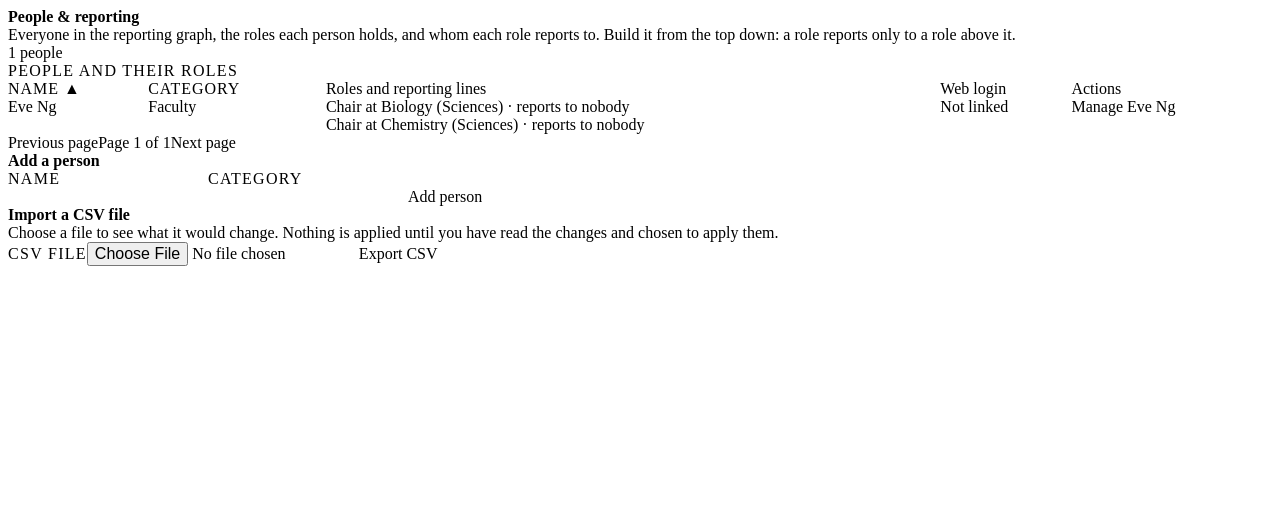
keyboard and screen-reader behaviour › names where each assignment is held, in the row, the revoke button and the reports-to controls
Expected: the list items read "Chair at Biology (Sciences) · reports to nobody", "Chair at Chemistry (Sciences) · reports to nobody", in this order, x1=326 y1=98 x2=629 y2=115; x1=326 y1=116 x2=644 y2=133
Click the button "Manage Eve Ng": (1124, 107) x1=1072 y1=98 x2=1176 y2=116
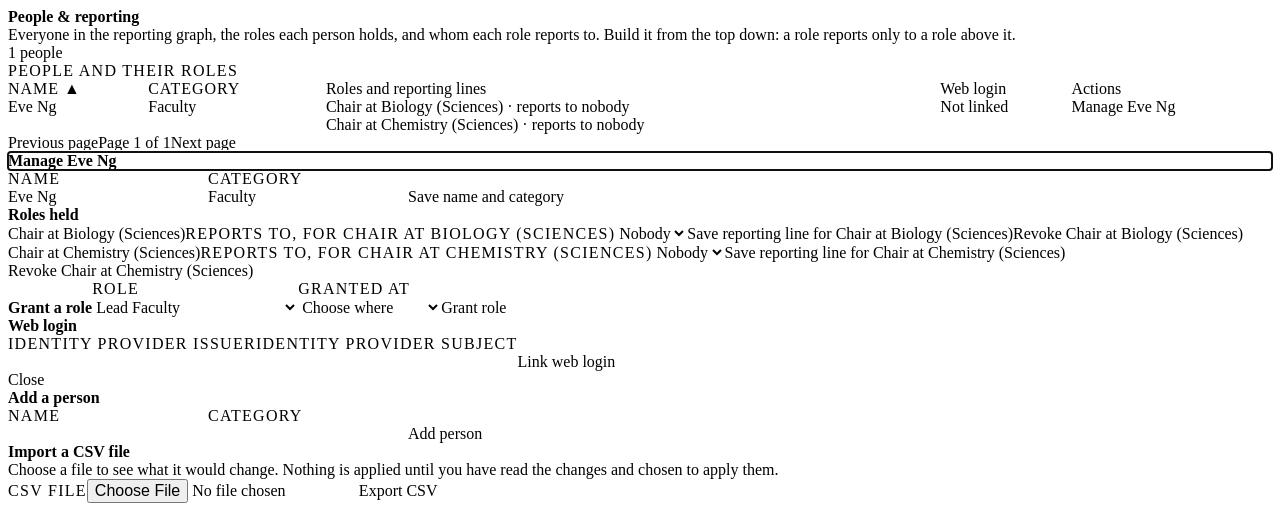
Expected: the button "Revoke Chair at Biology (Sciences)" is shown, x1=1013 y1=224 x2=1243 y2=242
Expected: the button "Revoke Chair at Chemistry (Sciences)" is shown, x1=8 y1=262 x2=253 y2=280
Expected: the dropdown labelled "Reports to, for Chair at Chemistry (Sciences)" is shown, x1=652 y1=243 x2=724 y2=262
